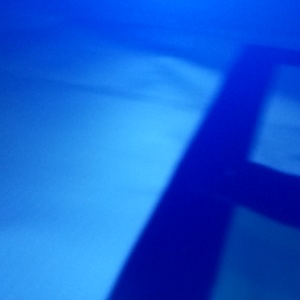bottom_right: (174, 178, 300, 300)
